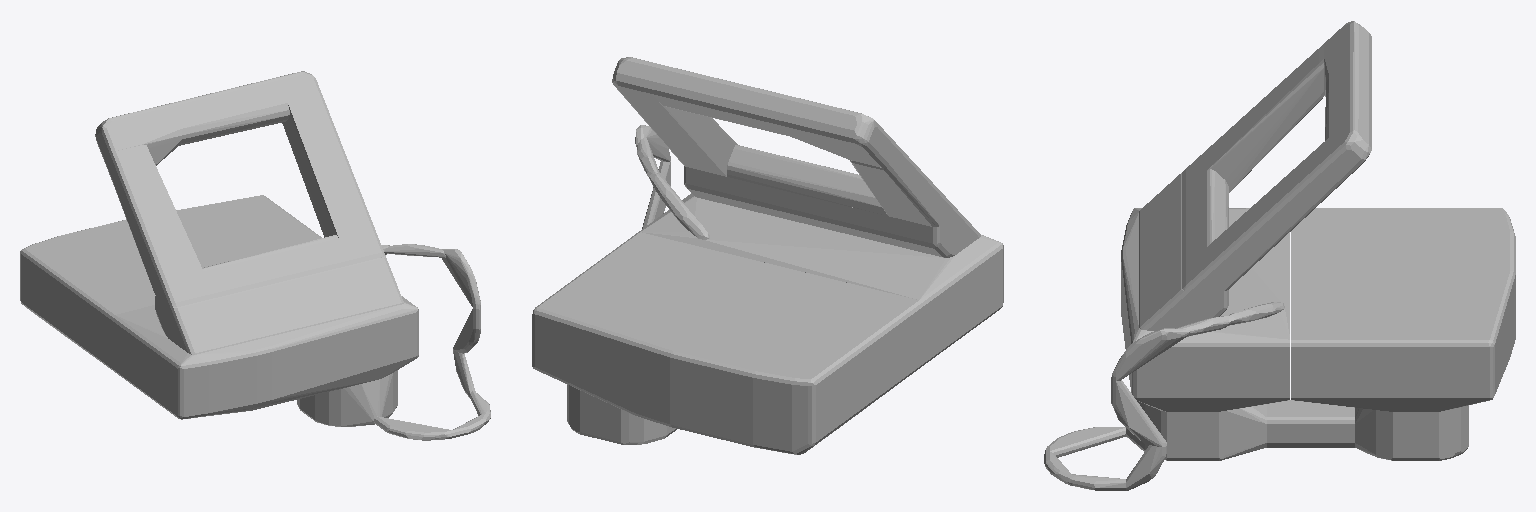
robot.urdf — root:
<?xml version="1.0"?>
<robot name="root">
  <link name="base_link">
    <visual>
      <origin xyz="0 0 0" rpy="0 0 0" />
      <geometry>
        <mesh filename="../meshes/unidex_core_cellphone-5814df537b8f1bcde95cd0dc8c2f0e83_006.obj" scale="1.0000E+00 1.0000E+00 1.0000E+00" />
      </geometry>
      <material name="">
        <color rgba="7.50E-01 7.50E-01 7.50E-01 1" />
      </material>
    </visual>
    <collision>
      <origin xyz="0 0 0" rpy="0 0 0" />
      <geometry>
        <mesh filename="../meshes/unidex_core_cellphone-5814df537b8f1bcde95cd0dc8c2f0e83_006.obj" scale="1.0000E+00 1.0000E+00 1.0000E+00" />
      </geometry>
    </collision>
  </link>
</robot>

--- What the picture shows (computed from the rendered views, not written in the file) ---
The picture shows the robot from 3 angles, left to right: view 1: azimuth 30°, elevation 25°; view 2: azimuth 150°, elevation 25°; view 3: azimuth 270°, elevation 25°; orthographic projection.
Model root with 1 links and 0 joints (none), rooted at base_link, posed every joint at zero.
Visible links, largest first — view 1: base_link; view 2: base_link; view 3: base_link.
Boxes of the visible links, bbox=[...] form: base_link: bbox=[20, 71, 490, 440]; base_link: bbox=[532, 57, 1003, 454]; base_link: bbox=[1044, 21, 1515, 490].
Size in the robot's own frame: 0.0719 by 0.0851 by 0.0645 metres.
1 mesh visuals loaded from 1 distinct referenced files (1 OBJ).
